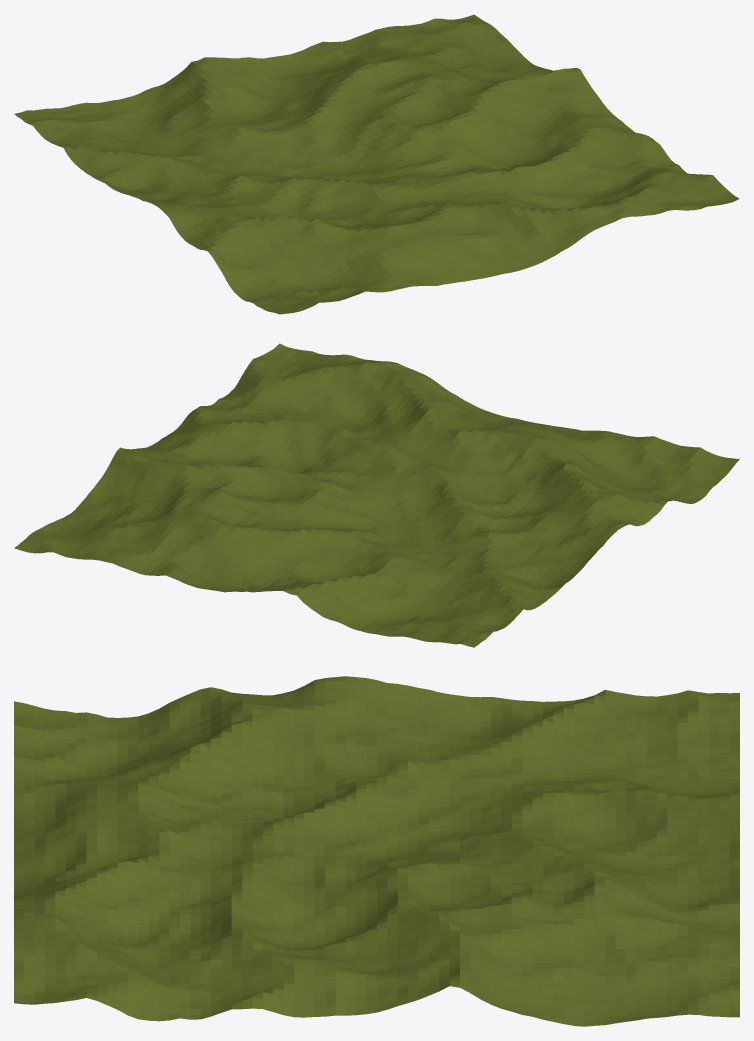
File: landscape_three.fbx
The picture shows the model from 3 angles, top to bottom: view 1: azimuth 30°, elevation 25°; view 2: azimuth 150°, elevation 25°; view 3: azimuth 270°, elevation 25°; orthographic projection. The views are drawn at different scales.
Parts seen in each view (by area): view 1: landscape_three; view 2: landscape_three; view 3: landscape_three.
Part boxes in pixels (x1,y1,x2,y2): landscape_three: [14, 14, 739, 314]; landscape_three: [14, 343, 739, 647]; landscape_three: [14, 676, 739, 1026].
Bounding box in the file's own units: 600 × 43.77 × 600.
